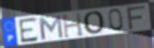0: (107, 8, 125, 33)
E: (17, 17, 40, 45)
F: (126, 4, 147, 32)
H: (61, 12, 84, 39)
M: (37, 15, 65, 41)
O: (82, 10, 106, 36)
